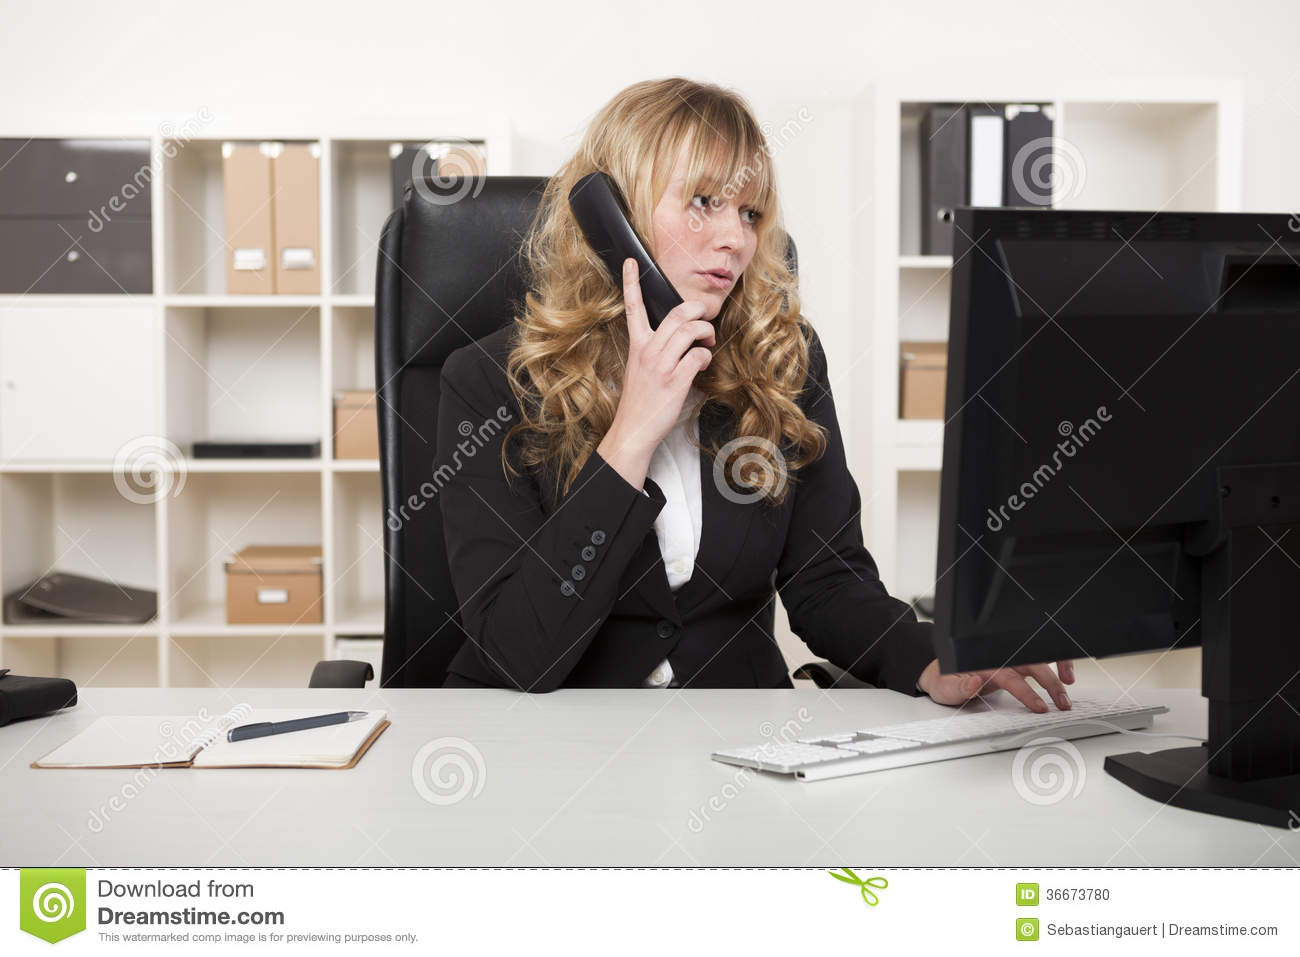talk: (616, 170, 763, 430)
